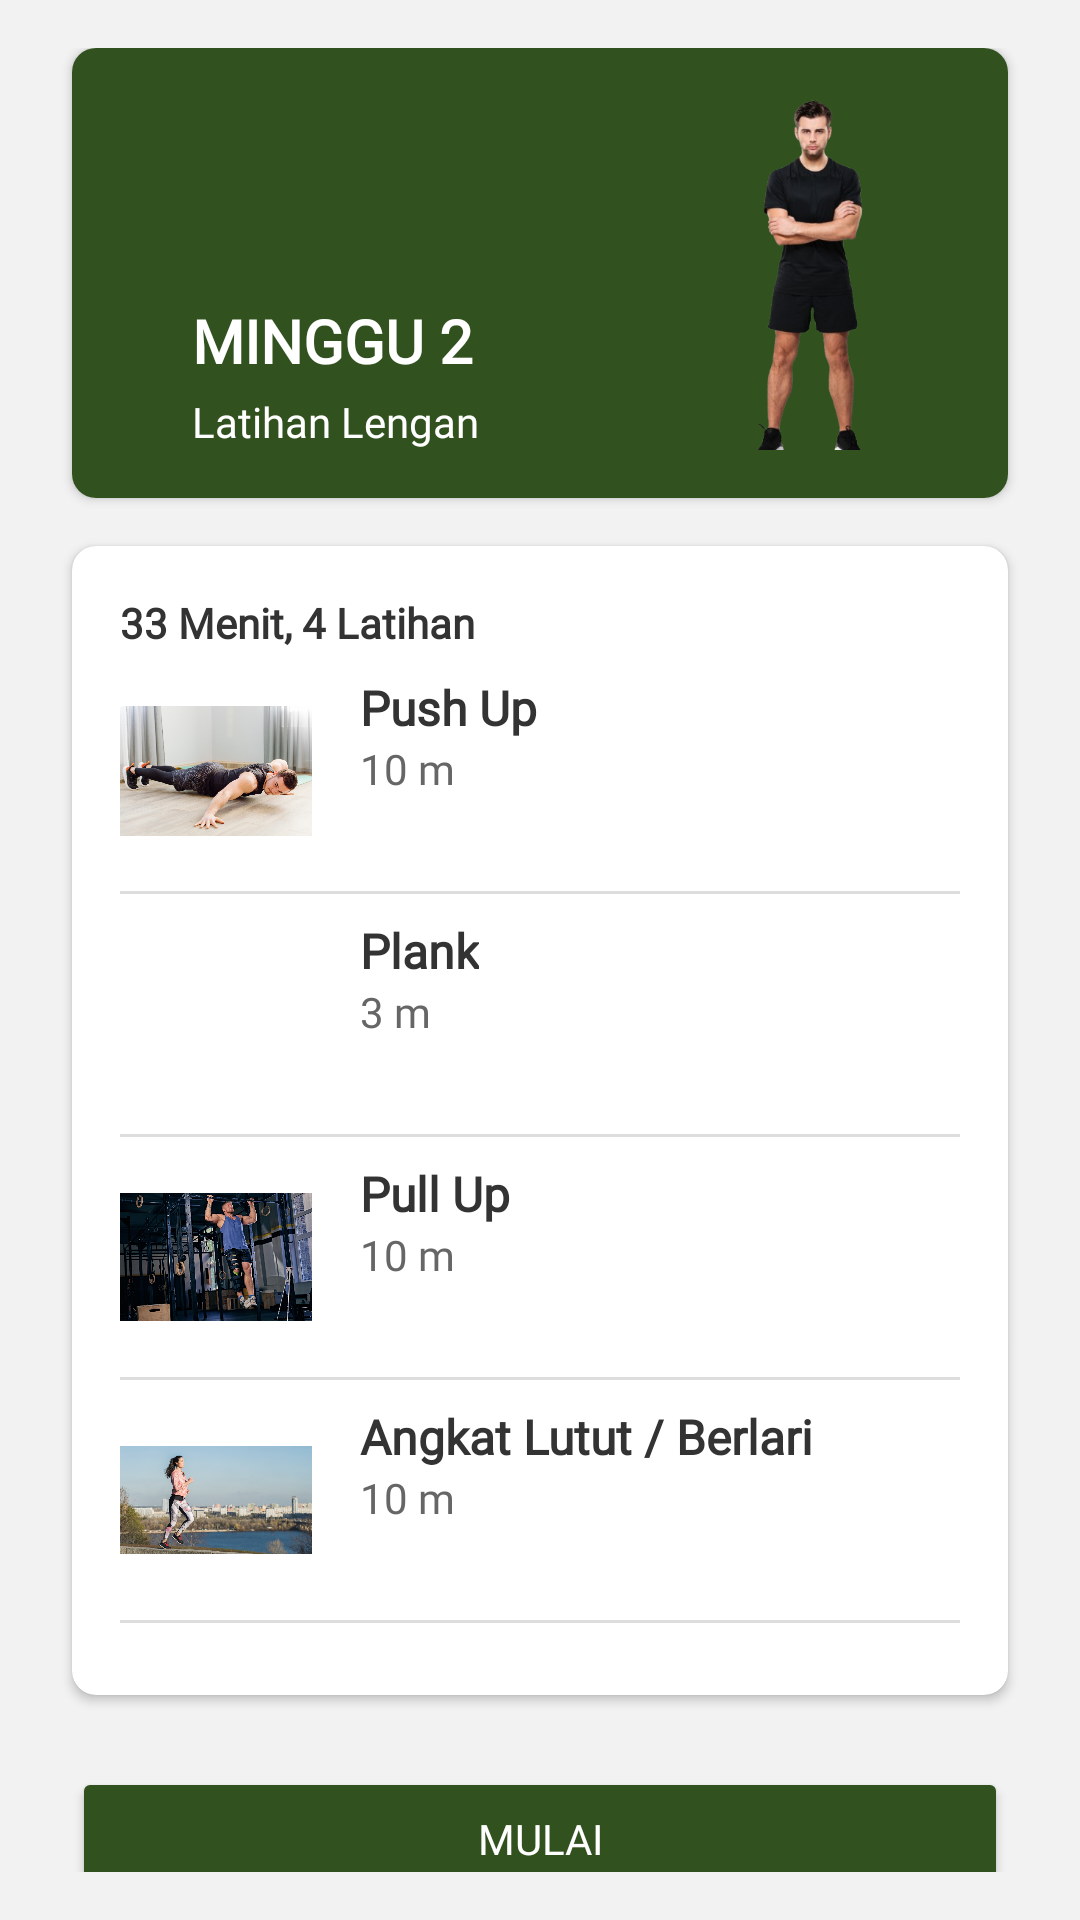

Locate icon controls on the screen. Image size 1080px×1920px, boxes as (x1, y1, x2, y2).
male: (758, 100, 862, 450)
run: (120, 1446, 312, 1554)
